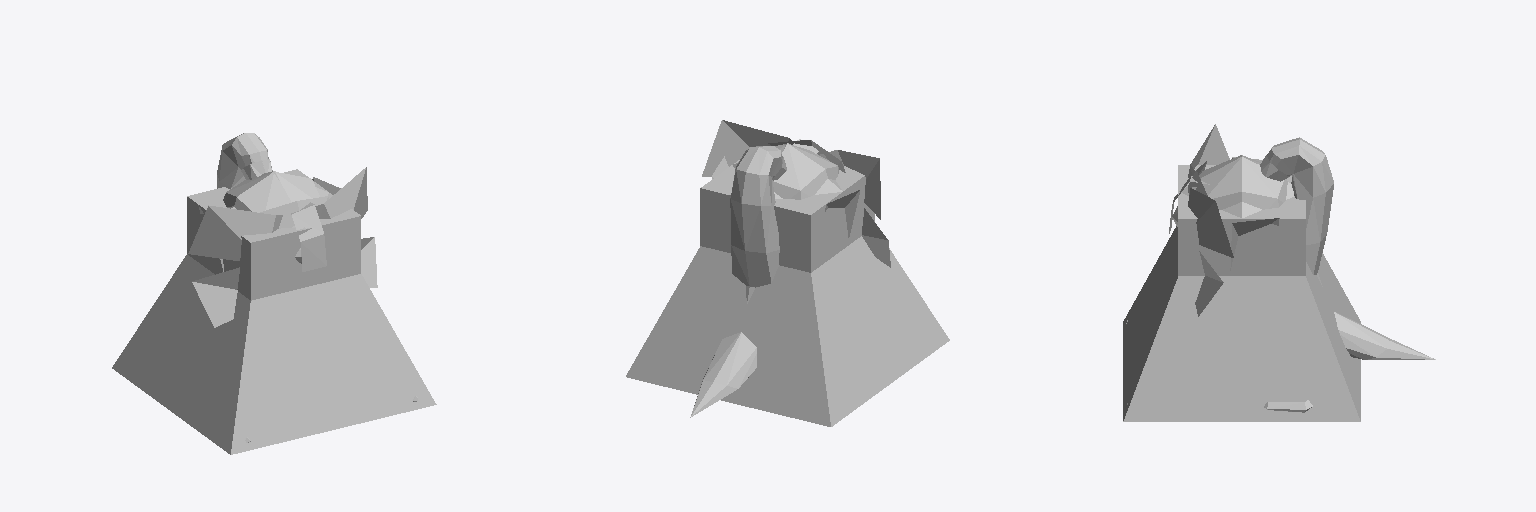
File: argemia_uni.obj
3 renders of one model, left to right at view 1: azimuth 30°, elevation 25°; view 2: azimuth 150°, elevation 25°; view 3: azimuth 270°, elevation 25°, orthographic.
Parts seen in each view (by area): view 1: UCX_Collision, argemia_uni; view 2: UCX_Collision, argemia_uni; view 3: UCX_Collision, argemia_uni.
Part boxes in pixels (left/top/right/bottom): UCX_Collision: left=112, top=169, right=436, bottom=454; argemia_uni: left=188, top=133, right=417, bottom=442; UCX_Collision: left=626, top=143, right=949, bottom=426; argemia_uni: left=690, top=120, right=890, bottom=417; UCX_Collision: left=1123, top=157, right=1360, bottom=421; argemia_uni: left=1126, top=124, right=1435, bottom=412.
Size of the model in its own units: 25.18 by 27 by 32.96.